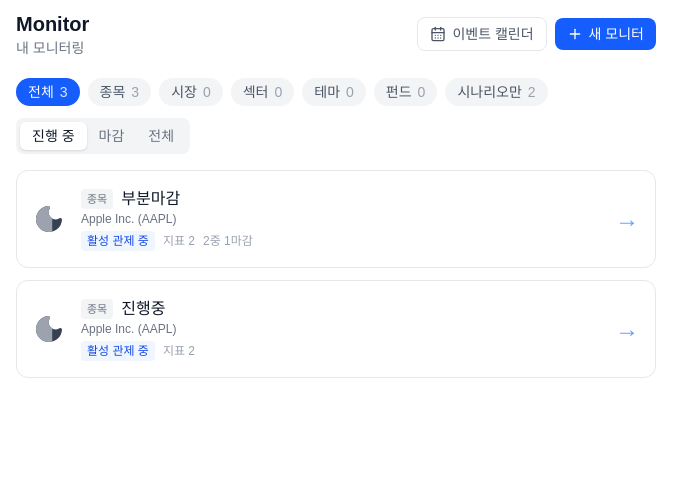
it: MonitorListPage 상태 세그먼트 › 기본값=진행 중: 전부 마감된 모니터는 숨기고, 부분 마감은 "n중 m 마감"을 표기한다
Expected: the element with test id "status-segment" is shown, [16, 118, 190, 154]
Expected: the text "완전마감" is not shown
What coordinates should you click on to do the following:
click the button with test id "status-seg-closed"
I would click on:
 (111, 136)
Its box is [86, 122, 136, 150].
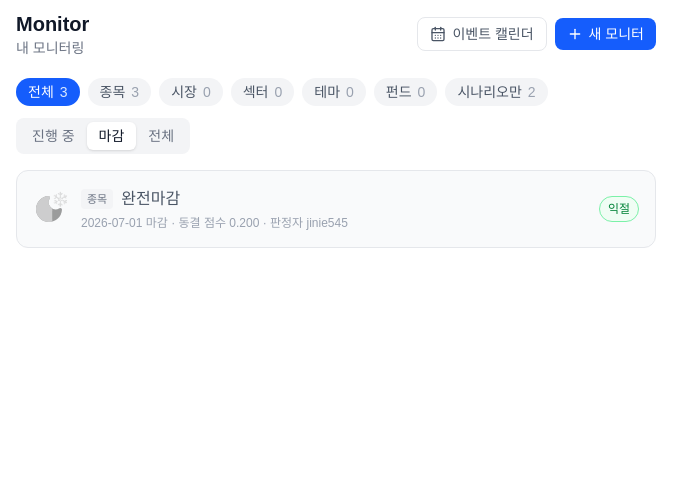
Now the heading "완전마감" is shown, box [121, 187, 180, 211]
Now the link "부분마감" is gone
Now the link "진행중" is gone
// "전체"로 전환하면 셋 다 보인다.
What coordinates should you click on to do the following:
click the button with test id "status-seg-all"
I would click on:
 (161, 136)
Its box is [136, 122, 186, 150].
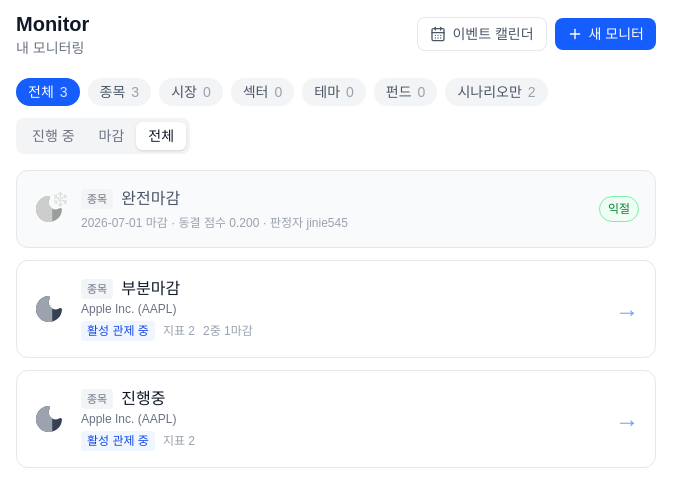
Now the heading "완전마감" is shown, box [121, 187, 180, 211]
Now the heading "부분마감" is shown, box [121, 277, 180, 301]
Now the heading "진행중" is shown, box [121, 387, 166, 411]
